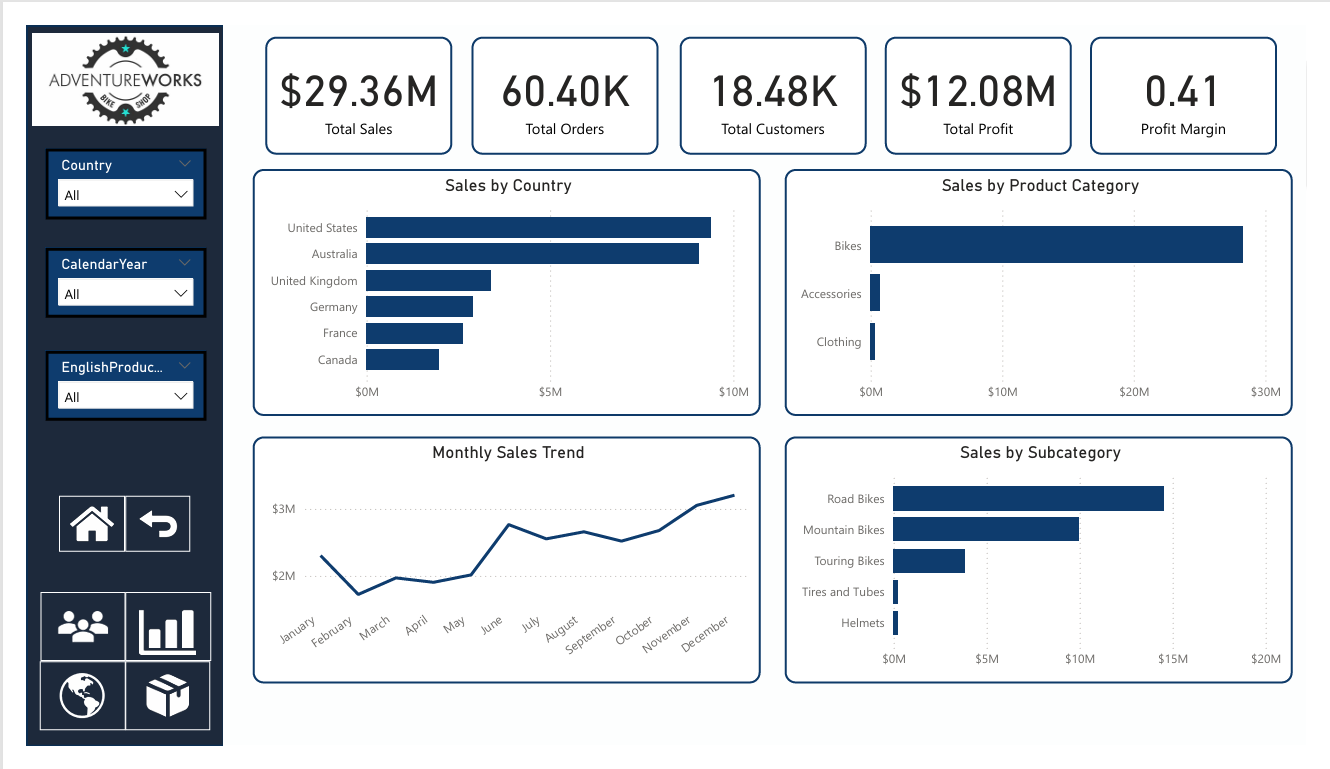

Layout of this report page (visuals, bound fields, positions):
{"tool":"powerbi","page":{"name":"Sales Overview","canvas":[1280,720],"ordinal":0},"visuals":[{"type":"shape","box":[0,0,196.5,719.8],"z":0},{"type":"barChart","title":"Sales by Country","fields":{"Category":["DimGeography.EnglishCountryRegionName"],"Y":["Sum(FactInternetSales.SalesAmount)"]},"box":[225.7,143,507.7,247.1],"z":1000},{"type":"card","fields":{"Values":["Sum(FactInternetSales.SalesAmount)"]},"box":[238.3,10.7,186.7,117.7],"z":2000},{"type":"card","fields":{"Values":["CountNonNull(FactInternetSales.OrderDateKey)"]},"box":[444.5,10.7,186.7,117.7],"z":3000},{"type":"card","fields":{"Values":["CountNonNull(DimCustomer.CustomerKey)"]},"box":[652.6,10.7,186.7,117.7],"z":4000},{"type":"image","box":[1,0,195.5,108.9],"z":5000},{"type":"slicer","fields":{"Values":["DimGeography.EnglishCountryRegionName"]},"box":[18.5,122.6,161.5,71],"z":6000},{"type":"barChart","title":"Sales by Product Category","fields":{"Y":["Sum(FactInternetSales.SalesAmount)"],"Category":["DimProductCategory.EnglishProductCategoryName"]},"box":[757.7,143,507.7,247.1],"z":7000},{"type":"lineChart","title":"Monthly Sales Trend","fields":{"Y":["Sum(FactInternetSales.SalesAmount)"],"Category":["FactInternetSales.DueDate.Variation.Date Hierarchy.Month"]},"box":[225.7,410.5,507.7,247.1],"z":8000},{"type":"barChart","title":"Sales by Subcategory","fields":{"Y":["Sum(FactInternetSales.SalesAmount)"],"Category":["DimProductSubcategory.EnglishProductSubcategoryName"]},"box":[758,410,508,247],"z":9000},{"type":"slicer","fields":{"Values":["DimDate.CalendarYear"]},"box":[18.6,221.8,161.2,70.4],"z":10000},{"type":"slicer","fields":{"Values":["DimProductCategory.EnglishProductCategoryName"]},"box":[18.6,324.4,161.2,70.4],"z":11000},{"type":"image","box":[13.6,566.1,84.6,69.1],"z":12000},{"type":"image","box":[12.6,635.1,85.6,69.1],"z":13000},{"type":"card","fields":{"Values":["Dax Measures.Total Profit"]},"box":[857.9,10.7,186.7,117.7],"z":14000},{"type":"card","fields":{"Values":["Dax Measures.Profit Margin"]},"box":[1063.1,10.7,186.7,117.7],"z":15000},{"type":"image","box":[32.1,469.8,66.1,56.4],"z":16000},{"type":"image","box":[98.2,635.1,84.6,69.1],"z":17000},{"type":"image","box":[98.2,469.8,65.2,56.4],"z":18000},{"type":"image","box":[98.2,566.1,85.6,69.1],"z":19000}]}

Visuals, with their boxes in screenshot pixels (x1, y1, x2, y2), scaled from the page's 1280x720 canvas onto the 1330x769 screenshot:
shape: x1=0, y1=0, x2=204, y2=768
"Sales by Country" barChart: x1=235, y1=153, x2=762, y2=417
card - Sum(FactInternetSales.SalesAmount): x1=248, y1=11, x2=442, y2=137
card - CountNonNull(FactInternetSales.OrderDateKey): x1=462, y1=11, x2=656, y2=137
card - CountNonNull(DimCustomer.CustomerKey): x1=678, y1=11, x2=872, y2=137
image: x1=1, y1=0, x2=204, y2=116
slicer - DimGeography.EnglishCountryRegionName: x1=19, y1=131, x2=187, y2=207
"Sales by Product Category" barChart: x1=787, y1=153, x2=1315, y2=417
"Monthly Sales Trend" lineChart: x1=235, y1=438, x2=762, y2=702
"Sales by Subcategory" barChart: x1=788, y1=438, x2=1315, y2=702
slicer - DimDate.CalendarYear: x1=19, y1=237, x2=187, y2=312
slicer - DimProductCategory.EnglishProductCategoryName: x1=19, y1=346, x2=187, y2=422
image: x1=14, y1=605, x2=102, y2=678
image: x1=13, y1=678, x2=102, y2=752
card - Dax Measures.Total Profit: x1=891, y1=11, x2=1085, y2=137
card - Dax Measures.Profit Margin: x1=1105, y1=11, x2=1299, y2=137
image: x1=33, y1=502, x2=102, y2=562
image: x1=102, y1=678, x2=190, y2=752
image: x1=102, y1=502, x2=170, y2=562
image: x1=102, y1=605, x2=191, y2=678
